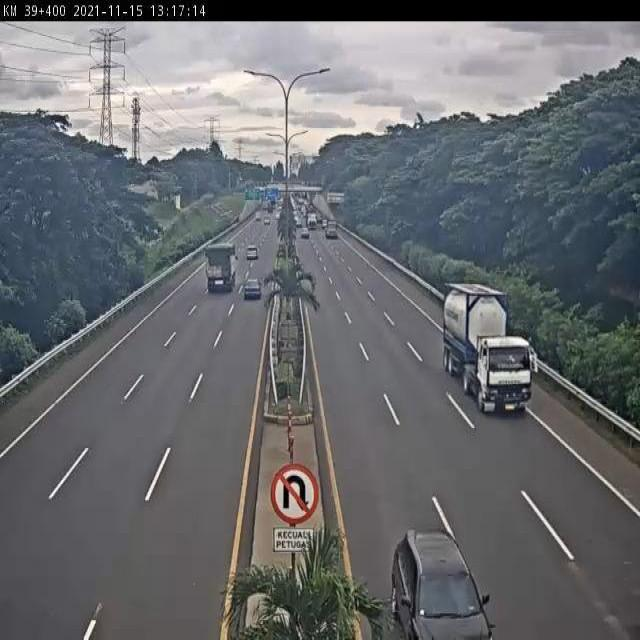car: (391, 525, 489, 640), (242, 278, 262, 302)
truck-l-: (205, 240, 239, 297)
truck-xl-: (442, 278, 535, 414)
